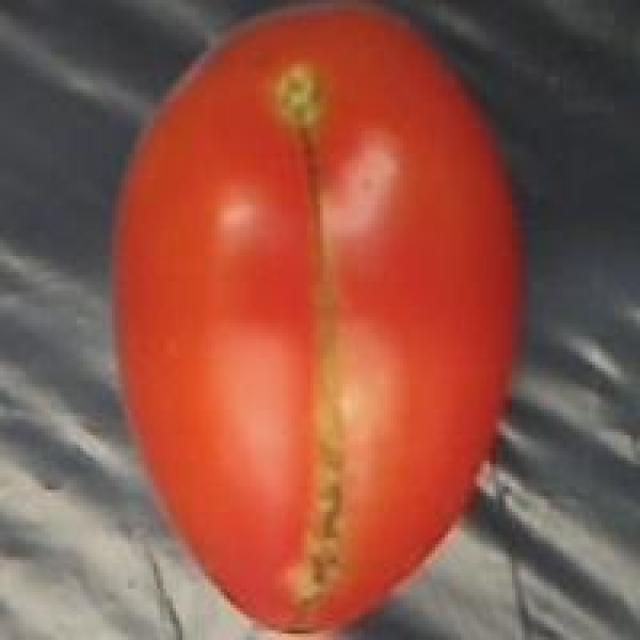overripe tomato: (83, 0, 573, 640)
